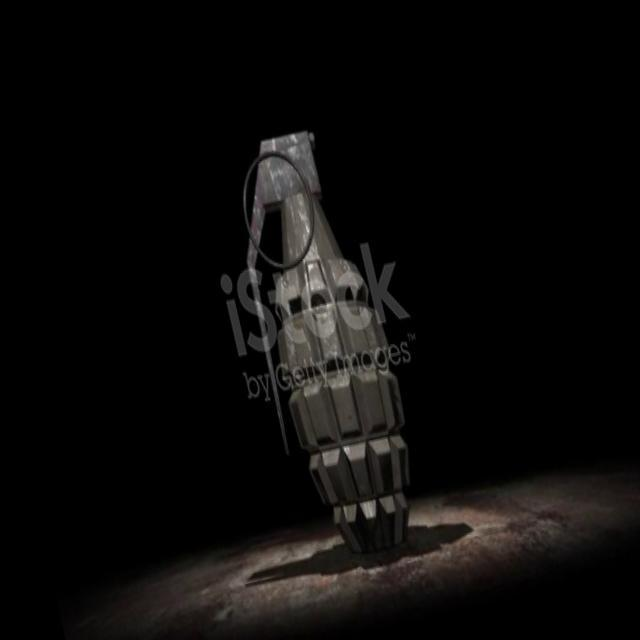grenade: (215, 116, 438, 574)
